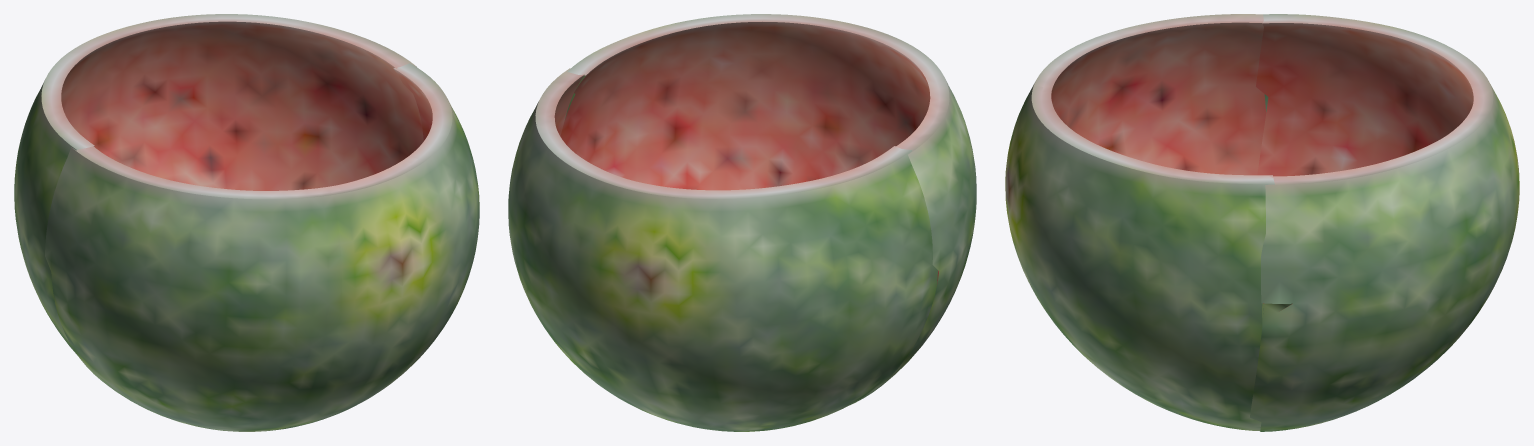
The model's file is watermelon.fbx.
The picture shows the model from 3 angles, left to right: view 1: azimuth 30°, elevation 25°; view 2: azimuth 150°, elevation 25°; view 3: azimuth 270°, elevation 25°; orthographic projection. The views are drawn at different scales.
Parts seen in each view (by area): view 1: PM3D_UMesh_PM3D_Sphere3D_2; view 2: PM3D_UMesh_PM3D_Sphere3D_2; view 3: PM3D_UMesh_PM3D_Sphere3D_2.
Boxes of the visible parts, box(x1,y1,x2,y2) form: PM3D_UMesh_PM3D_Sphere3D_2: box(14, 14, 479, 431); PM3D_UMesh_PM3D_Sphere3D_2: box(508, 14, 976, 431); PM3D_UMesh_PM3D_Sphere3D_2: box(1005, 14, 1519, 431).
Bounding box in the file's own units: 71.37 × 53.03 × 78.96.
